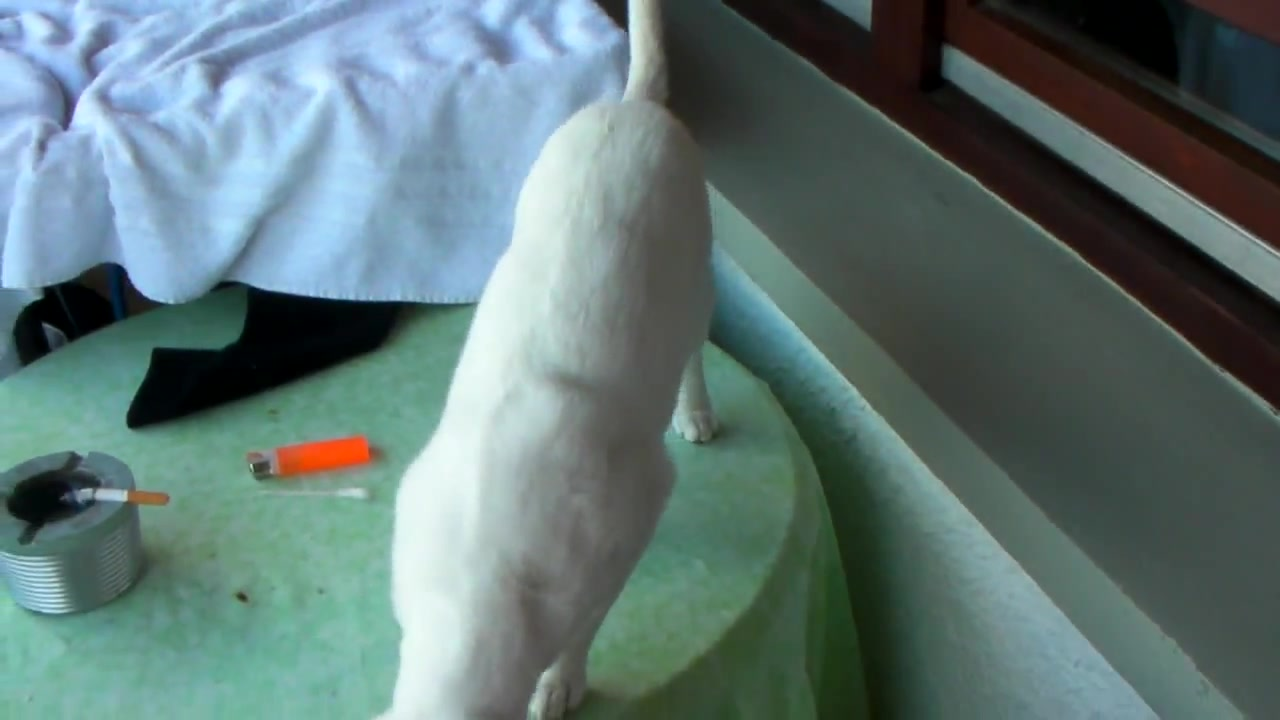cat: (371, 1, 724, 720)
